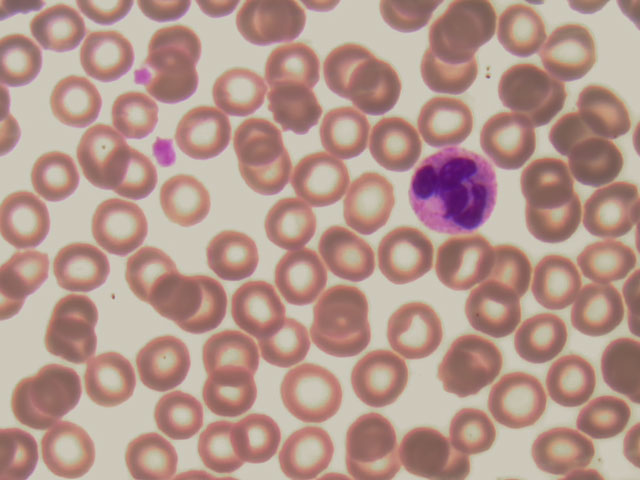Platelets: (150, 135, 177, 169), (130, 62, 157, 86)
RBC: (33, 2, 84, 55), (83, 29, 134, 82), (50, 75, 101, 128), (72, 125, 123, 178), (109, 150, 160, 203), (34, 148, 85, 201), (54, 239, 105, 292), (96, 200, 147, 253), (159, 172, 210, 225), (123, 240, 174, 293), (154, 272, 205, 325), (179, 282, 230, 335), (139, 338, 190, 391), (83, 351, 134, 404), (39, 318, 90, 371), (51, 282, 102, 335), (43, 362, 94, 415), (9, 377, 60, 430), (44, 421, 95, 474), (128, 427, 179, 480), (154, 388, 205, 441), (201, 368, 252, 421), (207, 327, 258, 380), (233, 281, 284, 334), (209, 225, 260, 278), (267, 197, 318, 250), (244, 148, 295, 201), (235, 116, 286, 169), (181, 111, 232, 164), (216, 63, 267, 116), (150, 60, 201, 113), (150, 21, 201, 74), (266, 36, 317, 89), (271, 85, 322, 138), (314, 106, 365, 159), (300, 157, 351, 210), (344, 176, 395, 229), (319, 237, 370, 290), (275, 249, 326, 302), (318, 279, 369, 332), (316, 312, 367, 365), (259, 317, 310, 370), (285, 361, 336, 414), (357, 352, 408, 405), (393, 304, 444, 357), (450, 332, 501, 385), (492, 372, 543, 425), (447, 407, 498, 460), (405, 424, 456, 477), (348, 409, 399, 462), (284, 427, 335, 480), (234, 412, 285, 465), (200, 421, 251, 474), (533, 419, 584, 472), (574, 394, 625, 447), (544, 353, 595, 406), (518, 314, 569, 367), (466, 283, 517, 336), (476, 241, 527, 294), (436, 233, 487, 286), (376, 231, 427, 284), (534, 252, 585, 305), (566, 282, 617, 335), (584, 240, 635, 293), (584, 183, 635, 236), (527, 192, 578, 245), (518, 156, 569, 209), (488, 112, 539, 165), (413, 96, 464, 149), (377, 112, 428, 165), (351, 59, 402, 112), (321, 43, 372, 96), (422, 41, 473, 94), (431, 4, 482, 57), (498, 1, 549, 54), (541, 25, 592, 78), (501, 62, 552, 115), (577, 85, 628, 138), (556, 106, 607, 159), (575, 135, 626, 188), (1, 190, 51, 243), (252, 1, 301, 39)
WBC: (405, 145, 502, 232)
